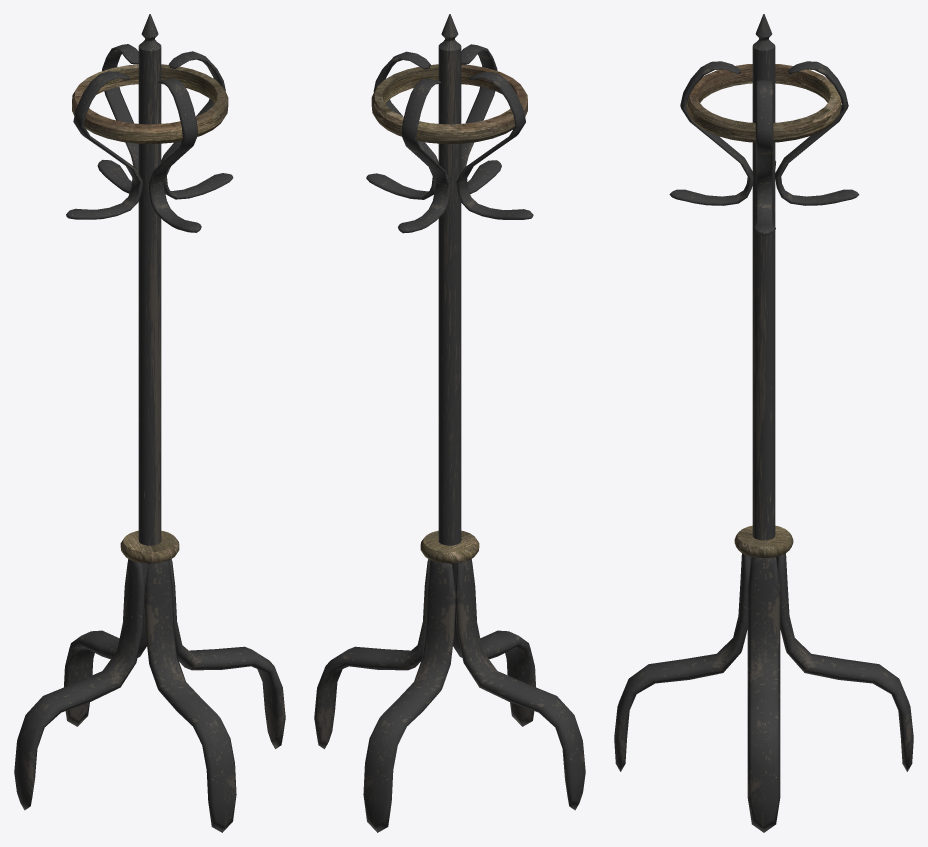
The model's file is Perchero.fbx.
The picture shows the model from 3 angles, left to right: view 1: azimuth 30°, elevation 25°; view 2: azimuth 150°, elevation 25°; view 3: azimuth 270°, elevation 25°; orthographic projection.
Visible parts, largest first — view 1: Perchero; view 2: Perchero; view 3: Perchero.
Part boxes in pixels (x1,y1,x2,y2): Perchero: (14, 14, 285, 832); Perchero: (314, 14, 585, 832); Perchero: (614, 14, 913, 832).
Size of the model in its own units: 0.7773 by 2.17 by 0.7773.
